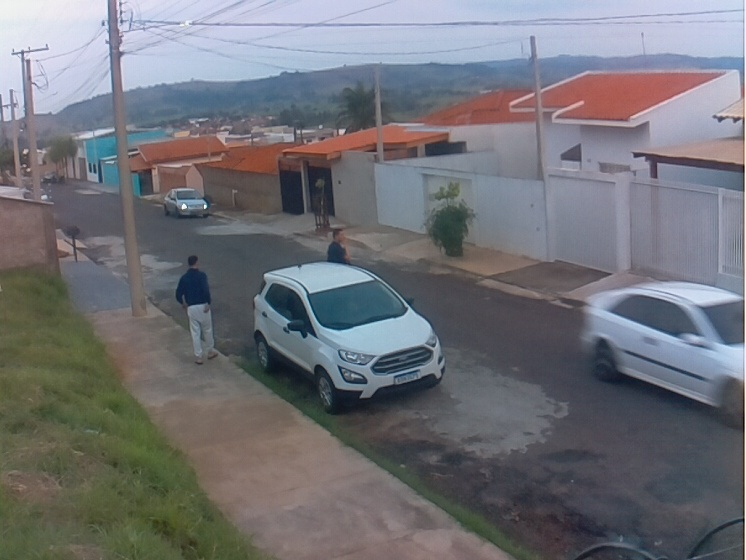person: (174, 253, 220, 366), (325, 227, 352, 268)
